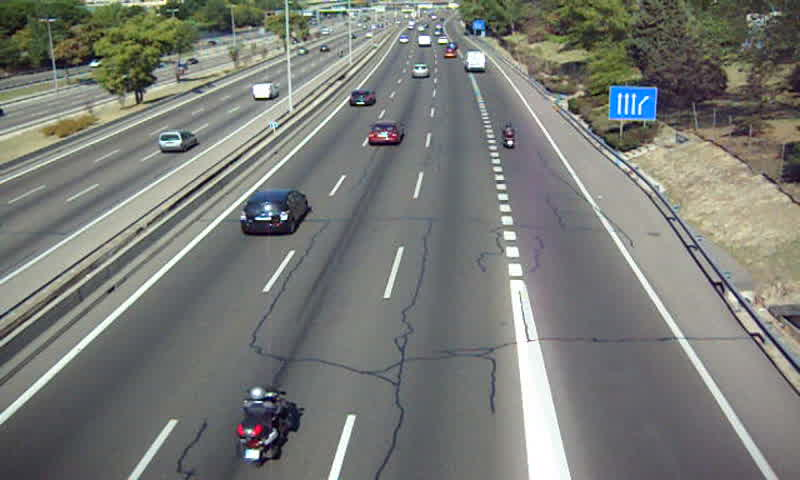car: (239, 190, 307, 236), (366, 121, 404, 146), (346, 88, 377, 107), (410, 64, 428, 78), (440, 47, 458, 59), (397, 33, 410, 45)
motorcycle: (233, 386, 292, 464), (500, 122, 519, 150)
van: (463, 50, 487, 72)
